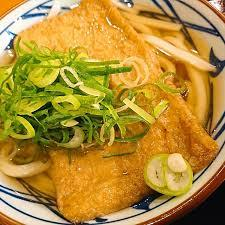kitune: (1, 3, 219, 219)
